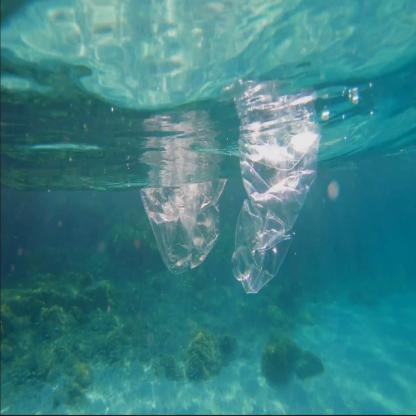Rác: (92, 51, 228, 281), (233, 183, 311, 298)
